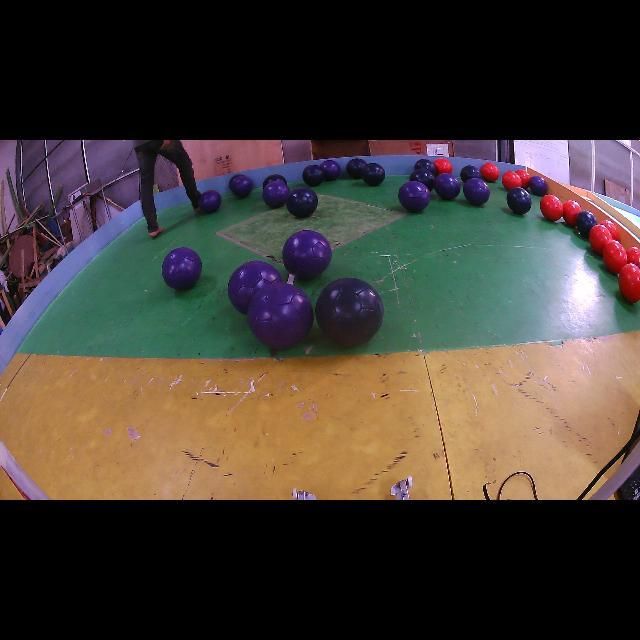B: (315, 278, 384, 346), (286, 188, 318, 218), (506, 188, 531, 215), (361, 162, 385, 186), (410, 169, 435, 191), (302, 165, 324, 186), (346, 159, 366, 179), (262, 174, 288, 188), (460, 165, 480, 182), (415, 159, 436, 175), (229, 174, 244, 186)
P: (246, 282, 314, 349), (228, 260, 282, 314), (282, 230, 332, 279), (162, 248, 202, 290), (399, 181, 430, 212), (262, 180, 290, 209), (434, 172, 460, 200), (464, 178, 490, 205), (576, 210, 598, 238), (199, 190, 221, 214), (230, 175, 252, 198), (320, 160, 341, 181), (529, 175, 548, 196)
R: (602, 240, 628, 274), (619, 264, 640, 302), (589, 225, 612, 255), (540, 195, 564, 221), (562, 200, 581, 226), (480, 162, 500, 182), (600, 220, 619, 241), (501, 171, 521, 190), (434, 159, 452, 175), (516, 169, 530, 189), (626, 246, 640, 266)
